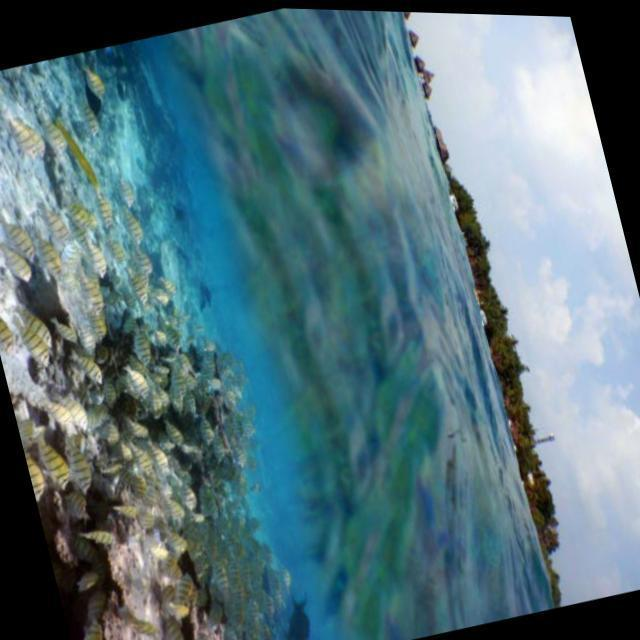Dead Coral: (79, 529, 218, 640)
